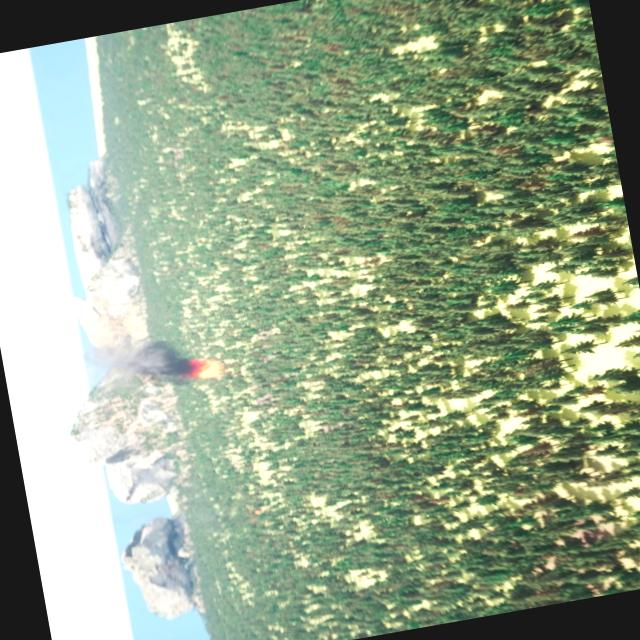fire: (190, 356, 225, 384)
smoke: (106, 334, 186, 390)
